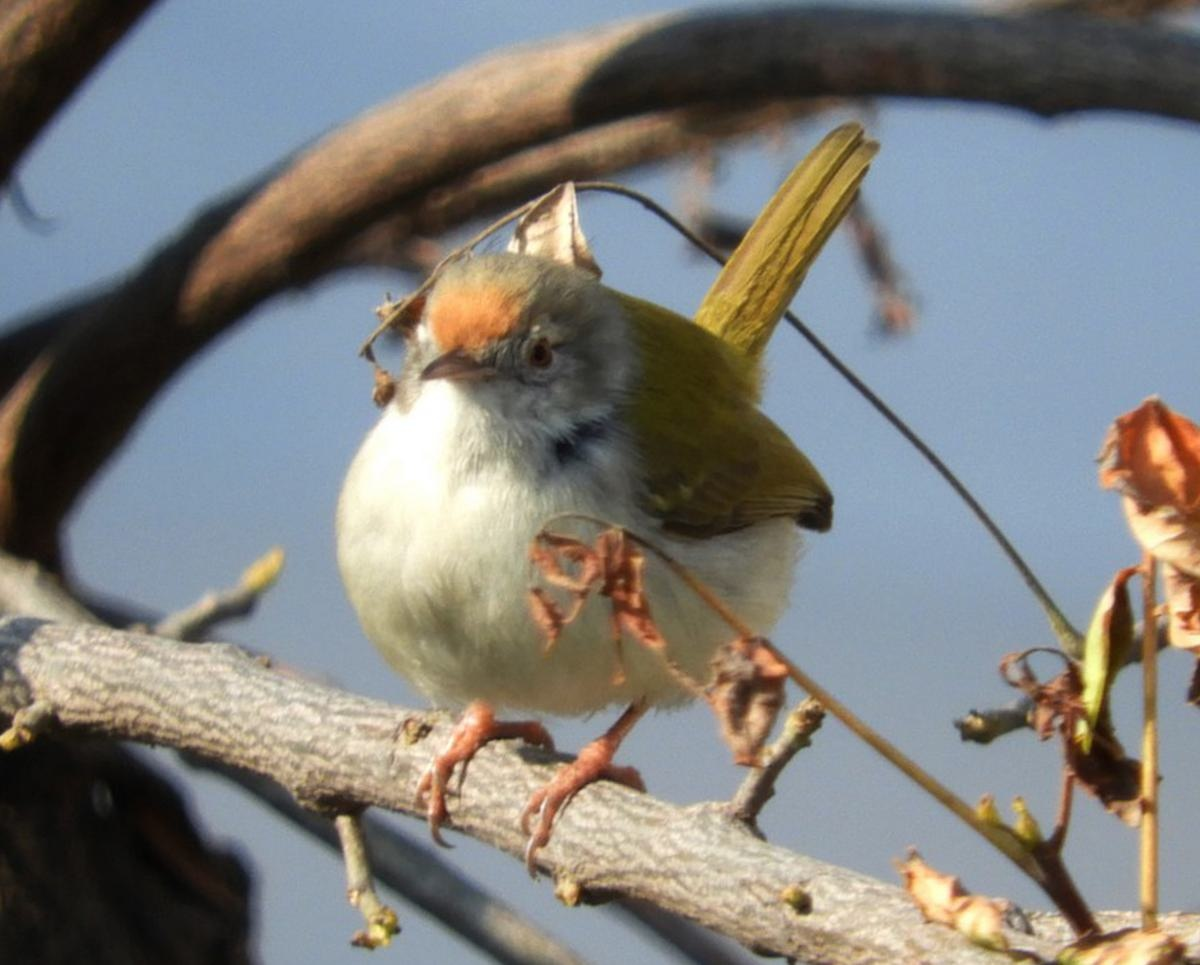tailorbird: (318, 182, 855, 869)
